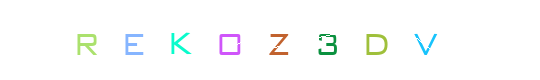3: (239, 0, 319, 80)
D: (240, 0, 320, 80)
E: (190, 0, 270, 80)
K: (194, 0, 274, 80)
O: (209, 0, 289, 80)
R: (143, 0, 223, 80)
V: (288, 0, 368, 80)
Z: (230, 0, 310, 80)
